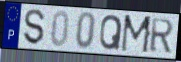0: (73, 11, 98, 52), (49, 9, 71, 49)
M: (119, 14, 154, 55)
Q: (98, 14, 124, 52)
R: (149, 18, 176, 54)
S: (23, 8, 47, 47)
